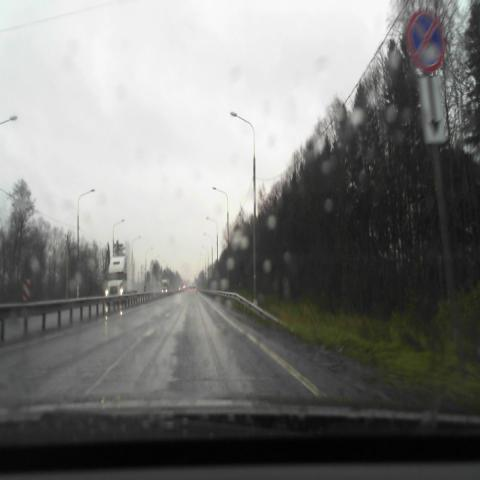8_2_3: (419, 78, 445, 144)
